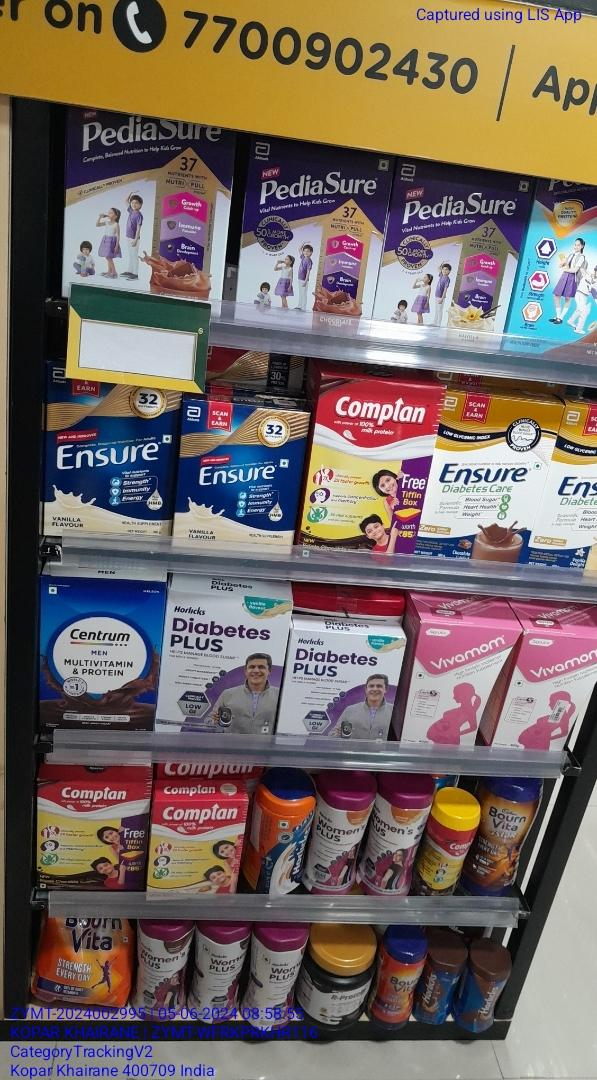BOURN_VITA_200_G_JAR: (375, 941, 418, 1032)
BOURN_VITA_500_G_POUCH: (37, 917, 127, 1009)
BOURN_VITA_FIVE_STAR_MAGIC_500_G_JAR: (481, 780, 536, 897)
COMPLAN_CHOCOLATE_200_GMS_JAR: (429, 804, 473, 897)
COMPLAN_CHOCOLATE_500_GMS_PACK: (303, 377, 414, 562), (37, 780, 144, 891)
COMPLAN_KESAR_BADAM_500_GMS_PACK: (151, 802, 243, 900)
ENSURE_VANILLA_400_G_PACK: (46, 384, 174, 540), (180, 399, 296, 555)
HORLICK_CHOCOLATE_200_G_JAR: (460, 957, 504, 1032), (419, 951, 453, 1025)
HORLICK_CLASSIC_MALT_500_G_JAR: (252, 790, 308, 899)
PEDIASURE_CHOCOLATE_500_G_PACK: (65, 118, 228, 311), (237, 152, 381, 327)
PEDIASURE_VANILLA_500_G_PACK: (386, 158, 503, 348)
